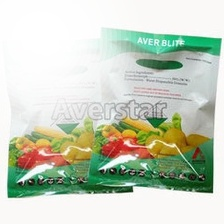insecticide: (83, 24, 223, 197), (1, 37, 135, 200)
